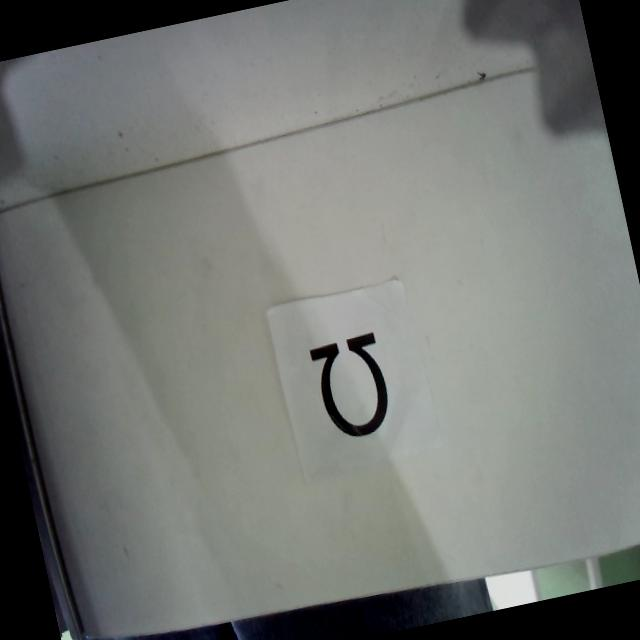OM: (306, 328, 397, 444)
